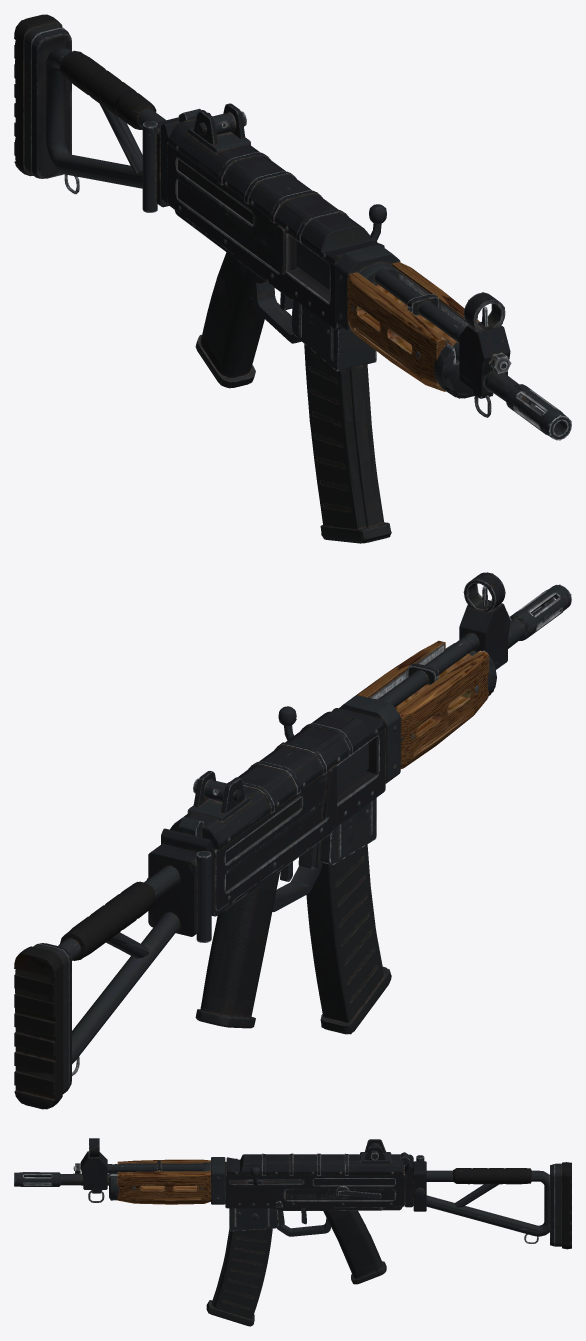
The picture shows the model from 3 angles, top to bottom: view 1: azimuth 30°, elevation 25°; view 2: azimuth 150°, elevation 25°; view 3: azimuth 270°, elevation 25°; orthographic projection. The views are drawn at different scales.
Parts seen in each view (by area): view 1: t4, t4_w, t4_mag; view 2: t4, t4_w, t4_mag; view 3: t4, t4_w, t4_mag.
Boxes of the visible parts, left/top/right/bottom form: t4: left=14, top=14, right=571, bottom=440; t4_w: left=14, top=14, right=571, bottom=543; t4_mag: left=304, top=344, right=391, bottom=543; t4: left=14, top=572, right=571, bottom=1109; t4_w: left=14, top=573, right=571, bottom=1109; t4_mag: left=306, top=845, right=391, bottom=1034; t4: left=14, top=1138, right=571, bottom=1284; t4_w: left=14, top=1138, right=571, bottom=1326; t4_mag: left=206, top=1228, right=272, bottom=1326.
Size of the model in its own units: 0.0746 by 0.2866 by 0.787.
Materials: 2 (2 with a texture image).
